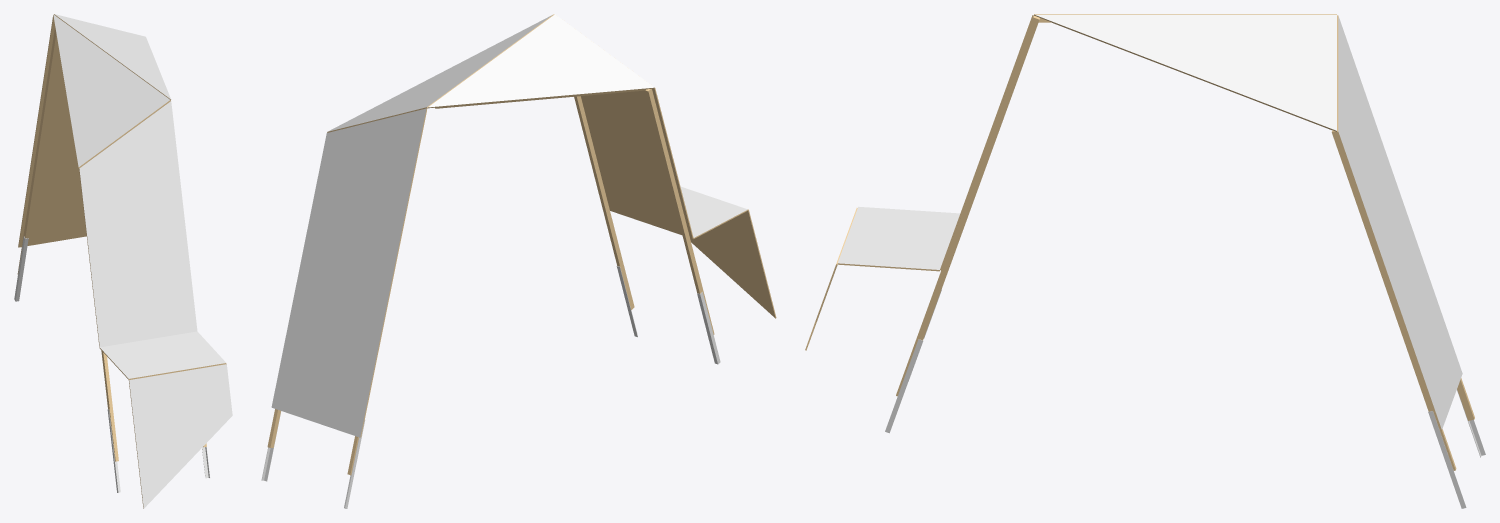
Rendered from kitime_joined.glb.
3 renders of one model, left to right at view 1: azimuth 30°, elevation 25°; view 2: azimuth 150°, elevation 25°; view 3: azimuth 270°, elevation 25°, orthographic. The views are drawn at different scales.
Visible parts, largest first — view 1: kitime; view 2: kitime; view 3: kitime.
Part boxes in pixels (x1,y1,x2,y2): kitime: [14, 14, 232, 508]; kitime: [261, 14, 776, 508]; kitime: [805, 14, 1485, 508].
Size of the model in its own units: 1.96 by 2.85 by 4.09.
